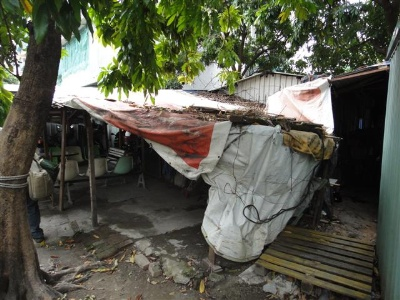plastic_bag: (202, 124, 317, 262), (79, 91, 264, 127), (265, 75, 333, 122)
